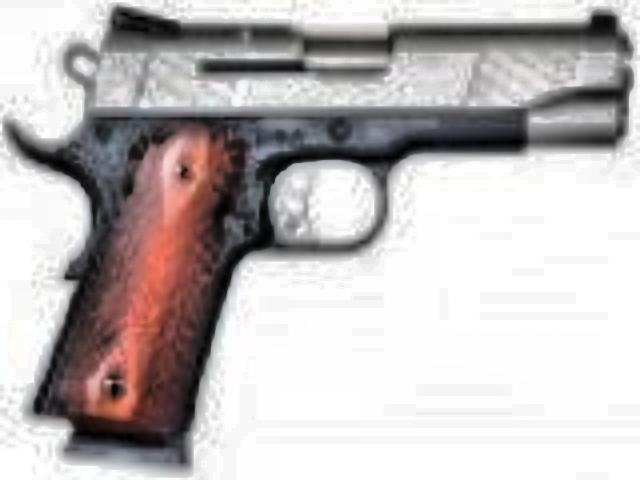pistol: (16, 4, 628, 444)
